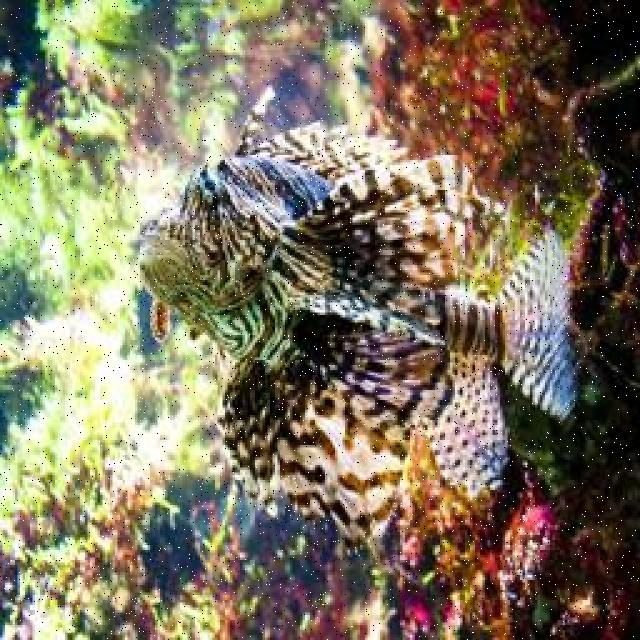aquatic plants: (0, 312, 222, 638), (0, 87, 144, 344), (35, 0, 146, 103)
fish: (134, 85, 583, 538)
reefs: (369, 1, 592, 199), (502, 473, 574, 596)
